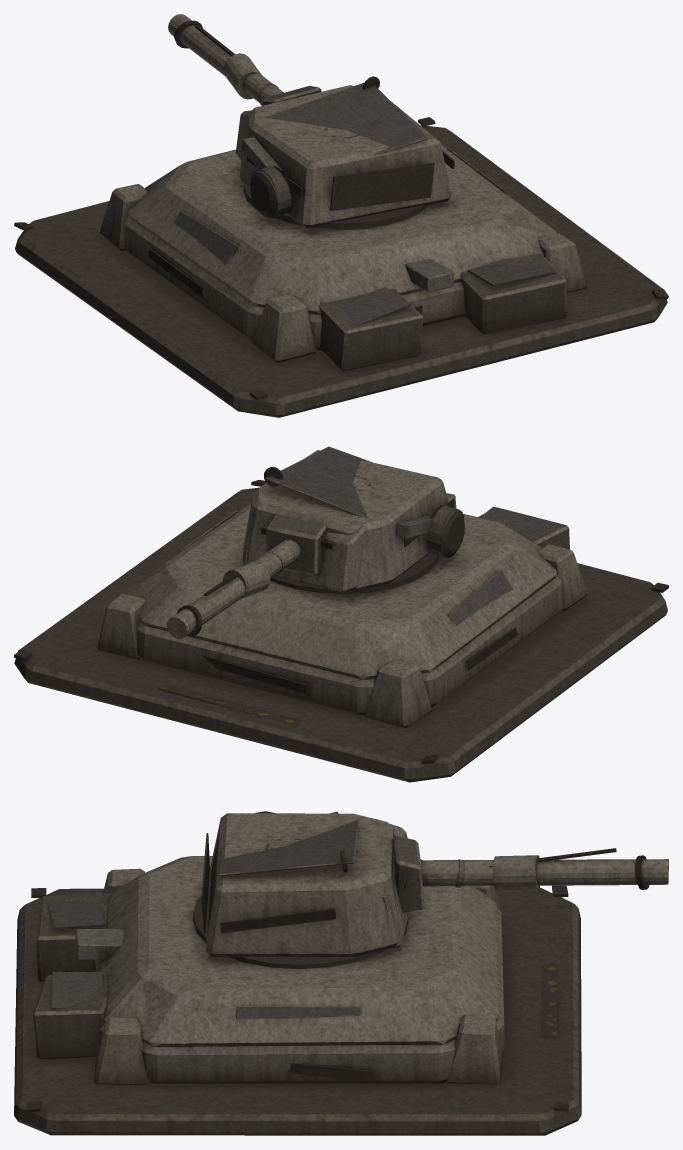
File: ord_bulwark_wreck.fbx
3 views of the same model, one above another, from view 1: azimuth 30°, elevation 25°; view 2: azimuth 150°, elevation 25°; view 3: azimuth 270°, elevation 25° (orthographic). The views are drawn at different scales.
Parts seen in each view (by area): view 1: base_bar, turret_bar; view 2: base_bar, turret_bar; view 3: base_bar, turret_bar.
Part boxes in pixels (left/top/right/bottom): base_bar: left=14, top=117, right=668, bottom=417; turret_bar: left=168, top=14, right=454, bottom=228; base_bar: left=14, top=480, right=668, bottom=782; turret_bar: left=167, top=446, right=464, bottom=638; base_bar: left=14, top=856, right=581, bottom=1135; turret_bar: left=201, top=811, right=668, bottom=956.
Bounding box in the file's own units: 1566 × 800 × 1808.
2 materials, 2 textured.
